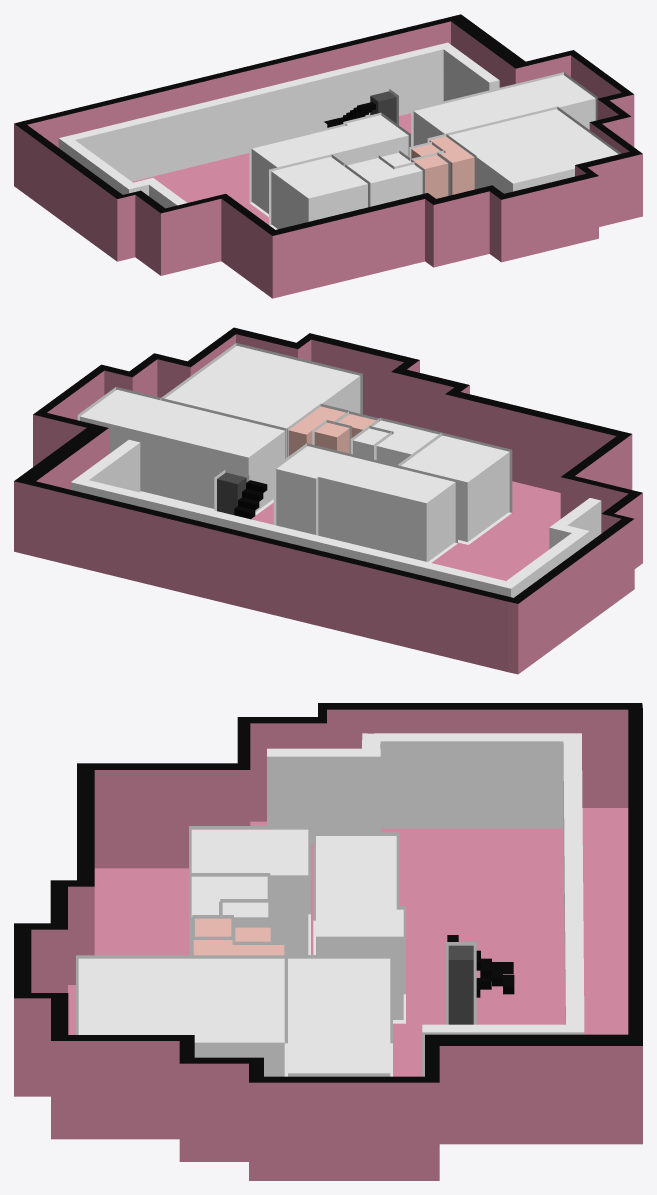
The picture shows the model from 3 angles, top to bottom: view 1: azimuth 30°, elevation 25°; view 2: azimuth 150°, elevation 25°; view 3: azimuth 270°, elevation 25°; orthographic projection. The views are drawn at different scales.
Visible parts, largest first — view 1: object, room_L_2_5, room_L_2_4, room_L_2_1, room_L_2_2, room_L_2_3, トイレ_L_2_2, トイレ_L_2_1, object_line.005, object_line.002, object_line.006, エレベーター_L_2_1 (+2 smaller); view 2: object, room_L_2_1, room_L_2_4, room_L_2_5, room_L_2_2, room_L_2_3, object_line.005, トイレ_L_2_2, object_line.002, エレベーター_L_2_1, object_line.006, トイレ_L_2_3 (+3 smaller); view 3: object, room_L_2_5, room_L_2_4, room_L_2_1, room_L_2_2, room_L_2_3, エレベーター_L_2_1, object_line.009, object_line.005, 階段_L_2_1, トイレ_L_2_2, object_line.006 (+4 smaller).
Boxes of the visible parts, <box> form: object: <box>14,14,642,298</box>; room_L_2_5: <box>449,109,618,193</box>; room_L_2_4: <box>413,75,595,145</box>; room_L_2_1: <box>251,115,408,213</box>; room_L_2_2: <box>271,157,367,229</box>; room_L_2_3: <box>347,158,422,206</box>; トイレ_L_2_2: <box>429,136,474,195</box>; トイレ_L_2_1: <box>414,155,448,198</box>; object_line.005: <box>249,112,410,216</box>; object_line.002: <box>411,72,597,146</box>; object_line.006: <box>269,154,370,229</box>; エレベーター_L_2_1: <box>370,91,396,123</box>; object: <box>14,327,642,674</box>; room_L_2_1: <box>276,446,455,561</box>; room_L_2_4: <box>80,390,285,511</box>; room_L_2_5: <box>165,346,360,428</box>; room_L_2_2: <box>401,435,509,541</box>; room_L_2_3: <box>373,420,438,465</box>; object_line.005: <box>273,443,457,562</box>; トイレ_L_2_2: <box>288,406,345,455</box>; object_line.002: <box>77,387,287,515</box>; エレベーター_L_2_1: <box>217,472,246,514</box>; object_line.006: <box>398,432,512,544</box>; トイレ_L_2_3: <box>314,422,349,453</box>; object: <box>14,703,642,1180</box>; room_L_2_5: <box>78,958,284,1076</box>; room_L_2_4: <box>288,958,390,1076</box>; room_L_2_1: <box>316,836,403,1019</box>; room_L_2_2: <box>191,829,308,954</box>; room_L_2_3: <box>191,876,267,936</box>; エレベーター_L_2_1: <box>448,945,473,1024</box>; object_line.009: <box>76,955,287,1076</box>; object_line.005: <box>313,832,405,1023</box>; 階段_L_2_1: <box>447,935,514,997</box>; トイレ_L_2_2: <box>193,940,284,955</box>; object_line.006: <box>189,826,310,954</box>.
Size of the model in its own units: 1.78 by 0.2187 by 1.25.
